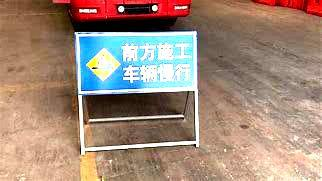sign: (74, 31, 198, 94)
